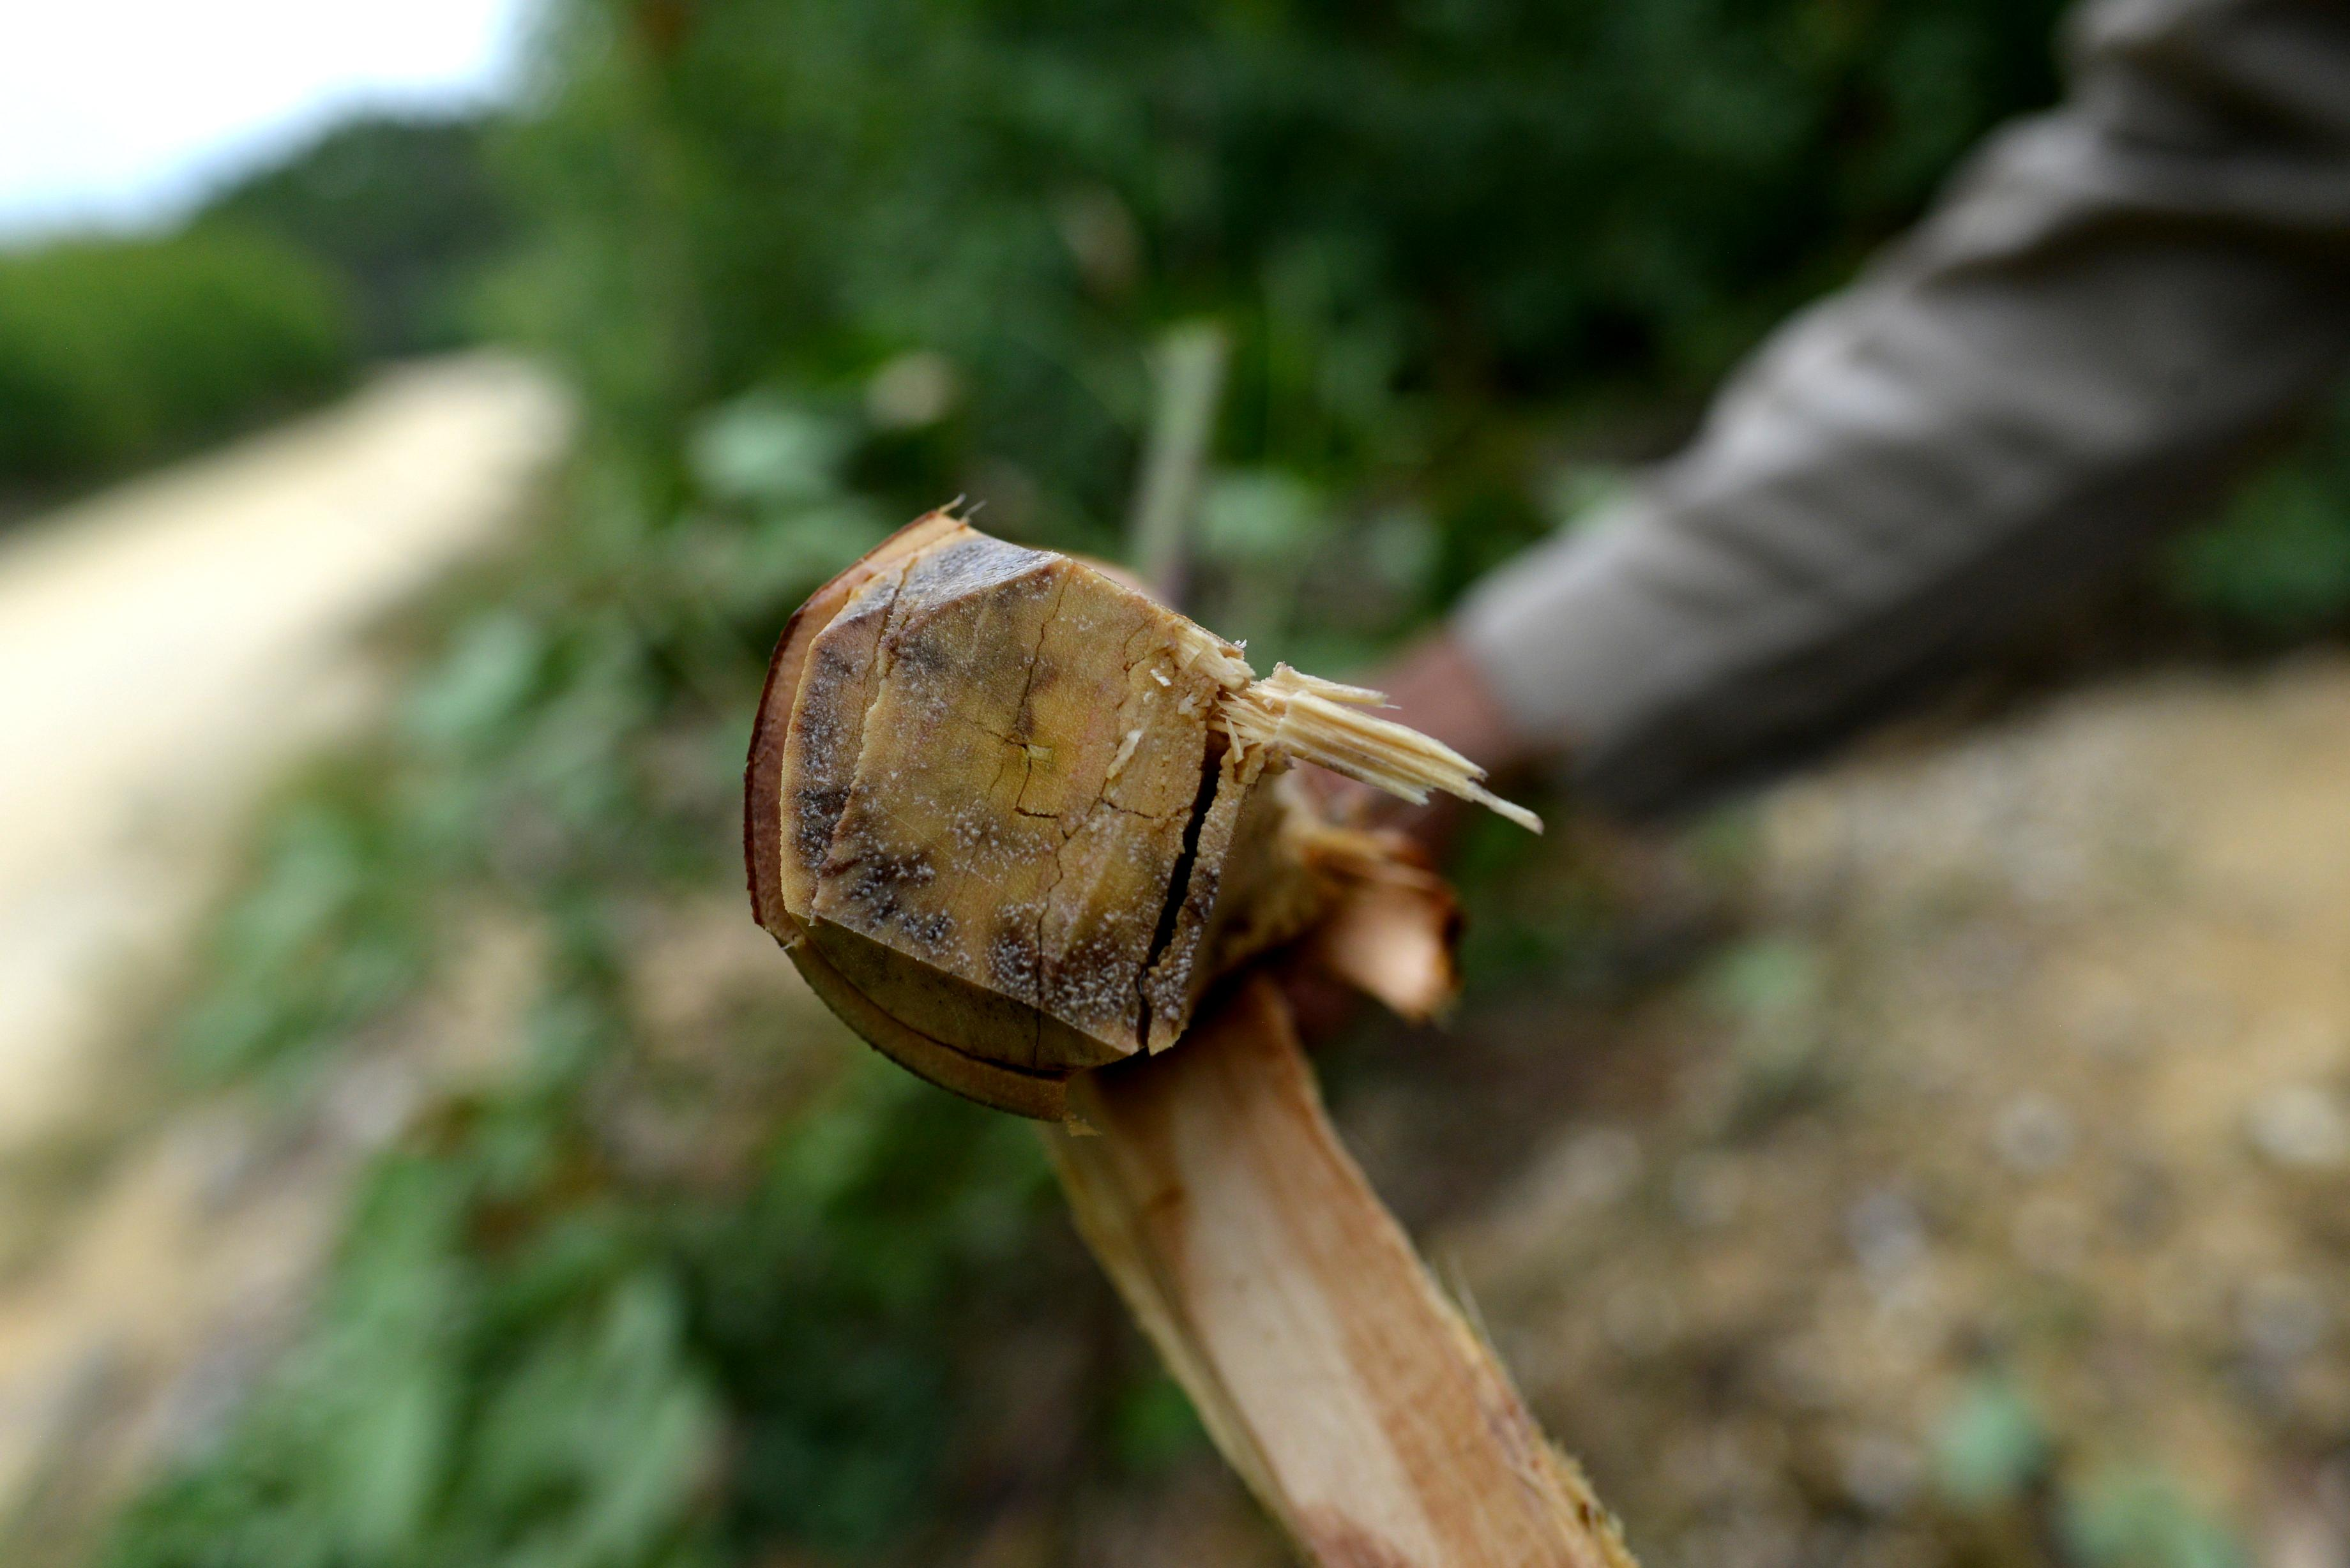Ralstonia: (896, 824, 1174, 1027), (796, 637, 887, 952), (863, 532, 1090, 628), (896, 639, 996, 819)
